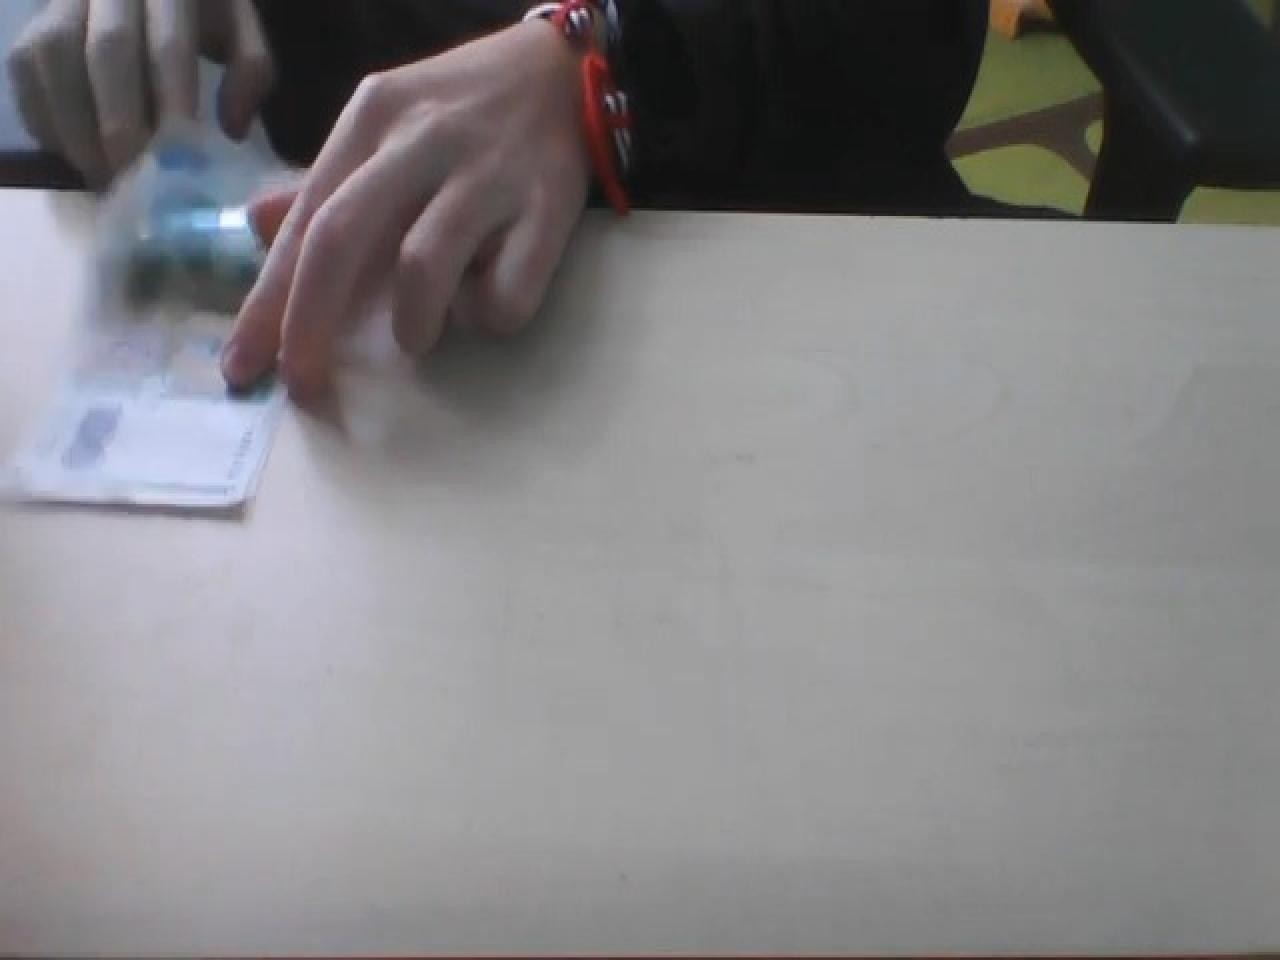100leva: (118, 195, 268, 313)
